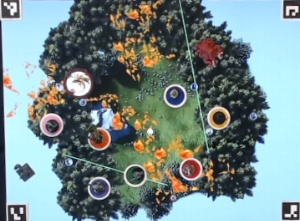blue: (162, 82, 188, 107)
green: (123, 160, 146, 188)
orange: (87, 128, 112, 151)
pink: (38, 111, 63, 138)
red: (178, 155, 204, 180)
violet: (86, 173, 111, 199)
yellow: (206, 103, 232, 129)
